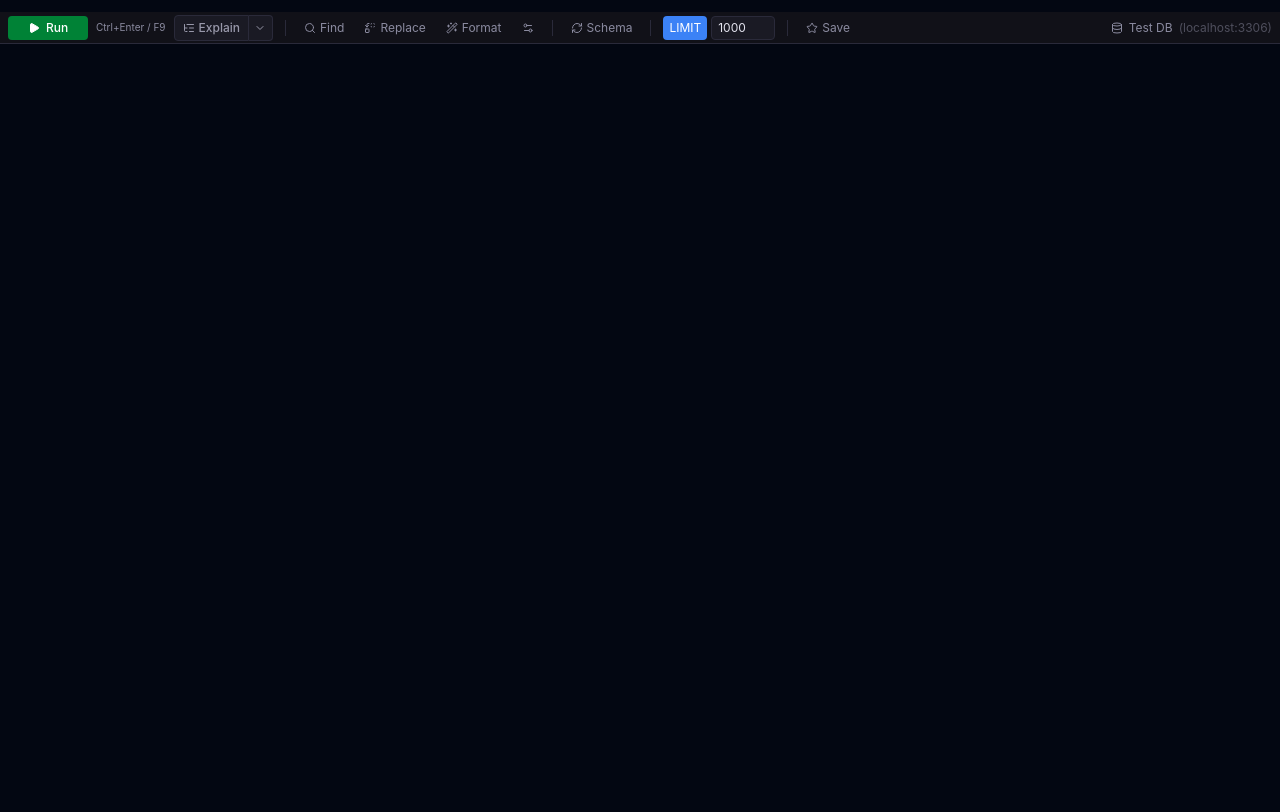
Test: QueryToolbar › closes explain dropdown on outside click
Click the button named "Explain options".
click(261, 28)  # box [249, 14, 273, 40]
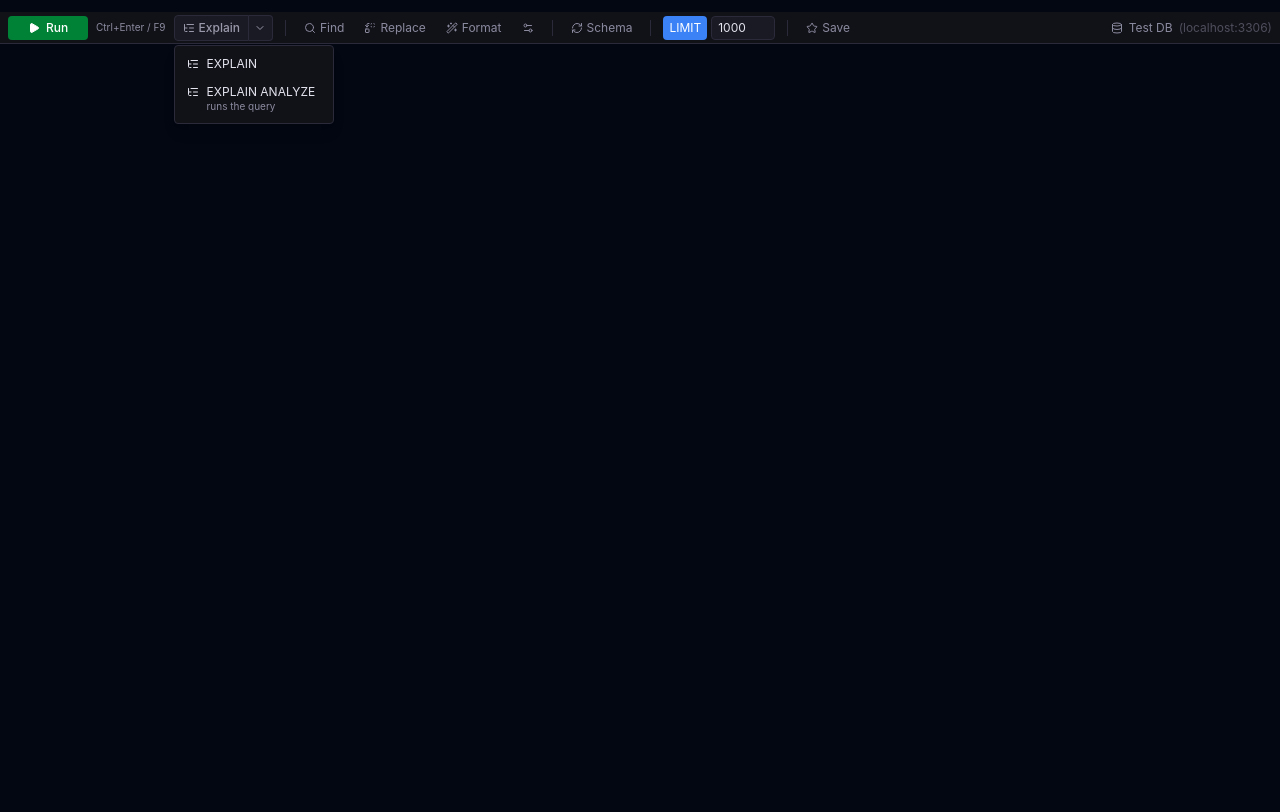
Check: the text "EXPLAIN ANALYZE" is shown, box [207, 84, 315, 98]
Press the mouse on the element that starts with "Run" at (640, 412), box [0, 12, 1279, 811]
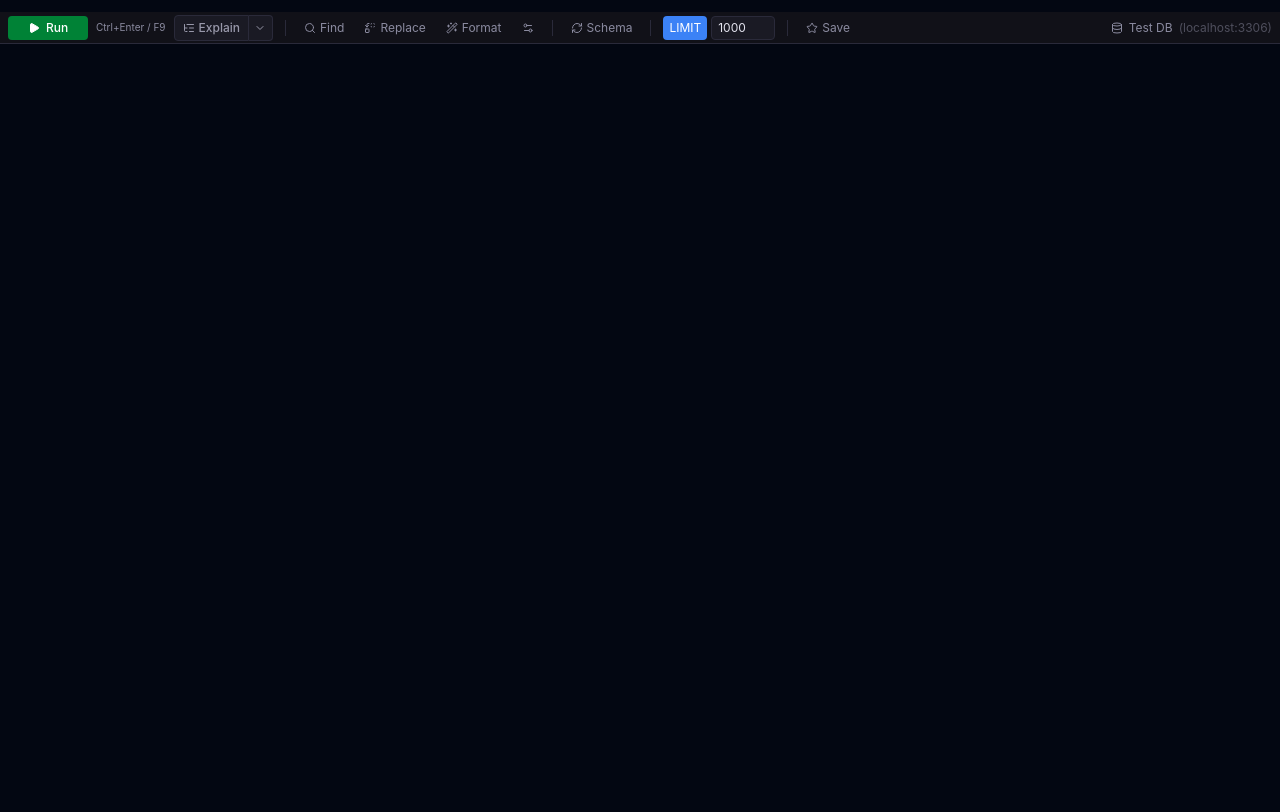
Check: the button "EXPLAIN ANALYZE" is gone
